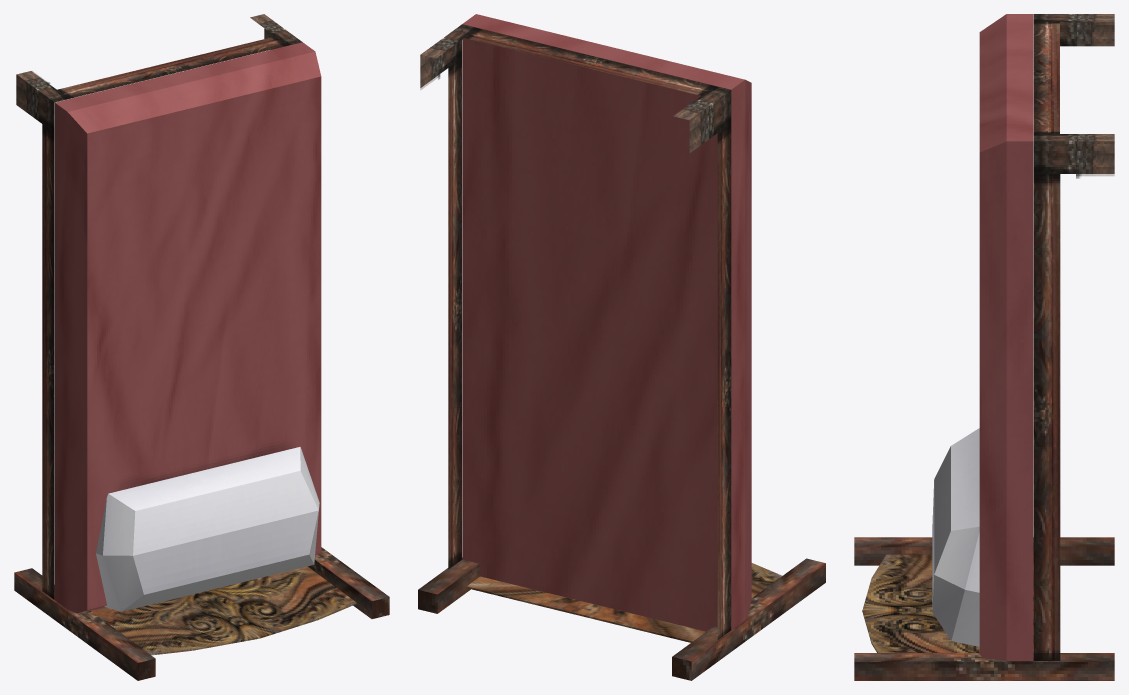
File: bed.glb
The picture shows the model from 3 angles, left to right: view 1: azimuth 30°, elevation 25°; view 2: azimuth 150°, elevation 25°; view 3: azimuth 270°, elevation 25°; orthographic projection. The views are drawn at different scales.
Visible parts, largest first — view 1: bed; view 2: bed; view 3: bed.
Boxes of the visible parts, x1=… form: bed: x1=14, y1=14, x2=389, y2=680; bed: x1=418, y1=14, x2=825, y2=680; bed: x1=854, y1=14, x2=1114, y2=680.
Size of the model in its own units: 1.04 by 2.04 by 0.8877.
1 material, 1 textured.
